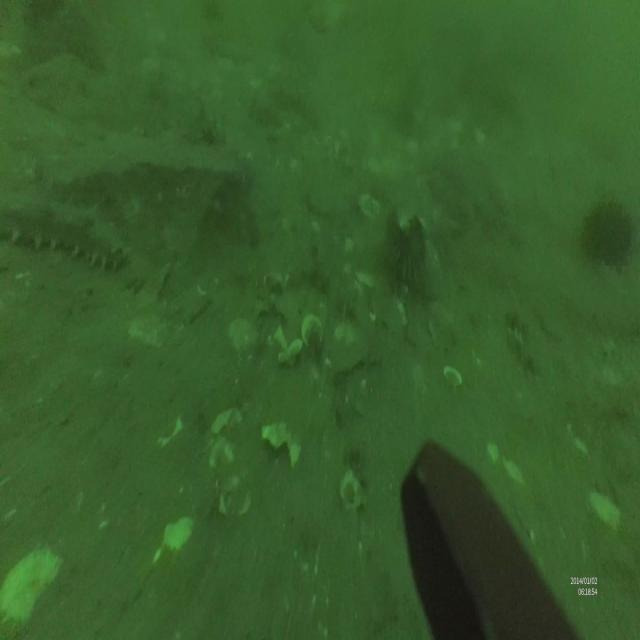echinus: (580, 198, 634, 273)
holothurian: (1, 204, 132, 274)
scallop: (1, 547, 62, 634), (128, 314, 167, 354)
starfish: (270, 264, 334, 354), (316, 290, 380, 377)
